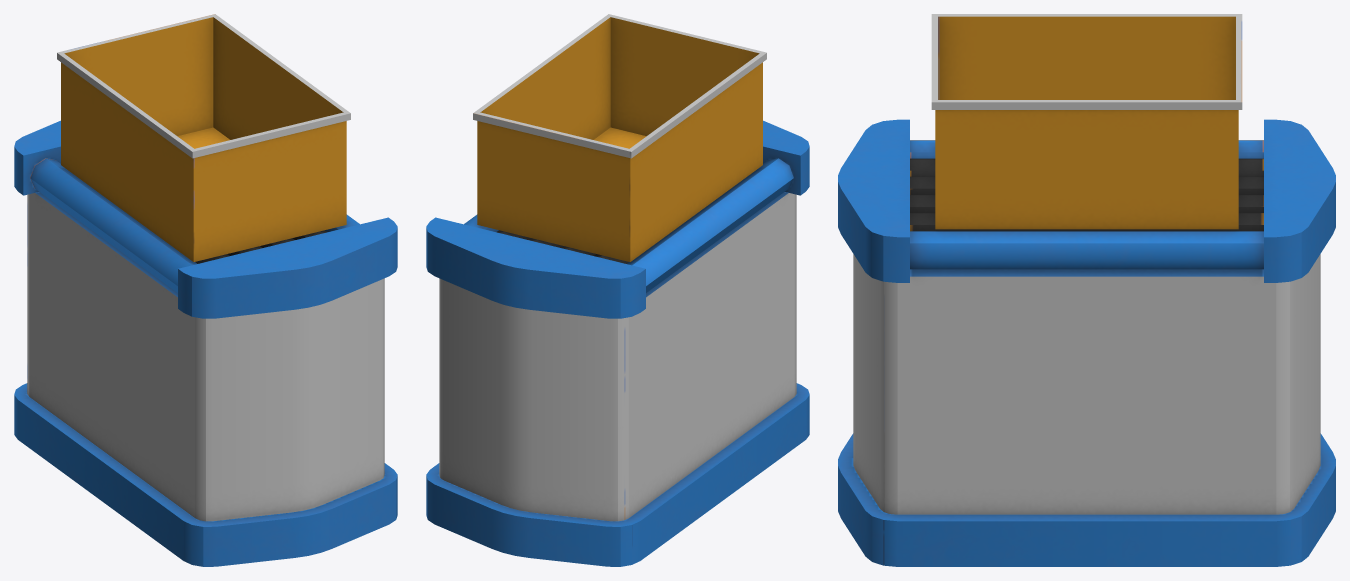
The model's file is AGV.FBX.
3 renders of one model, left to right at view 1: azimuth 30°, elevation 25°; view 2: azimuth 150°, elevation 25°; view 3: azimuth 270°, elevation 25°, orthographic. The views are drawn at different scales.
Parts seen in each view (by area): view 1: AGV; view 2: AGV; view 3: AGV.
Part boxes in pixels (x1,y1,x2,y2): AGV: [14, 14, 397, 566]; AGV: [426, 14, 809, 566]; AGV: [838, 14, 1335, 566].
Size of the model in its own units: 140 by 249 by 250.
